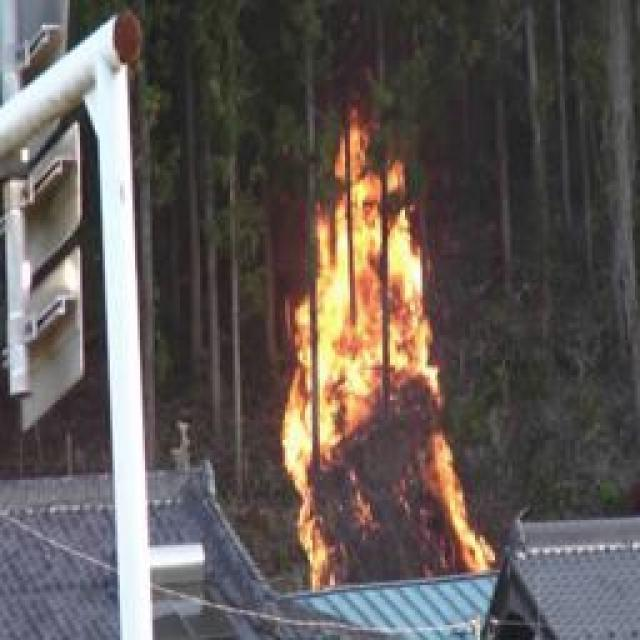Fire: (277, 133, 491, 584)
